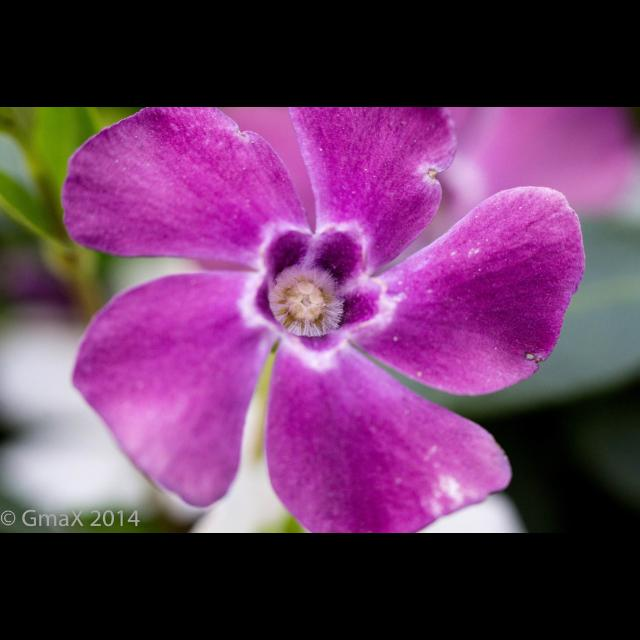Flower: (52, 108, 594, 526)
